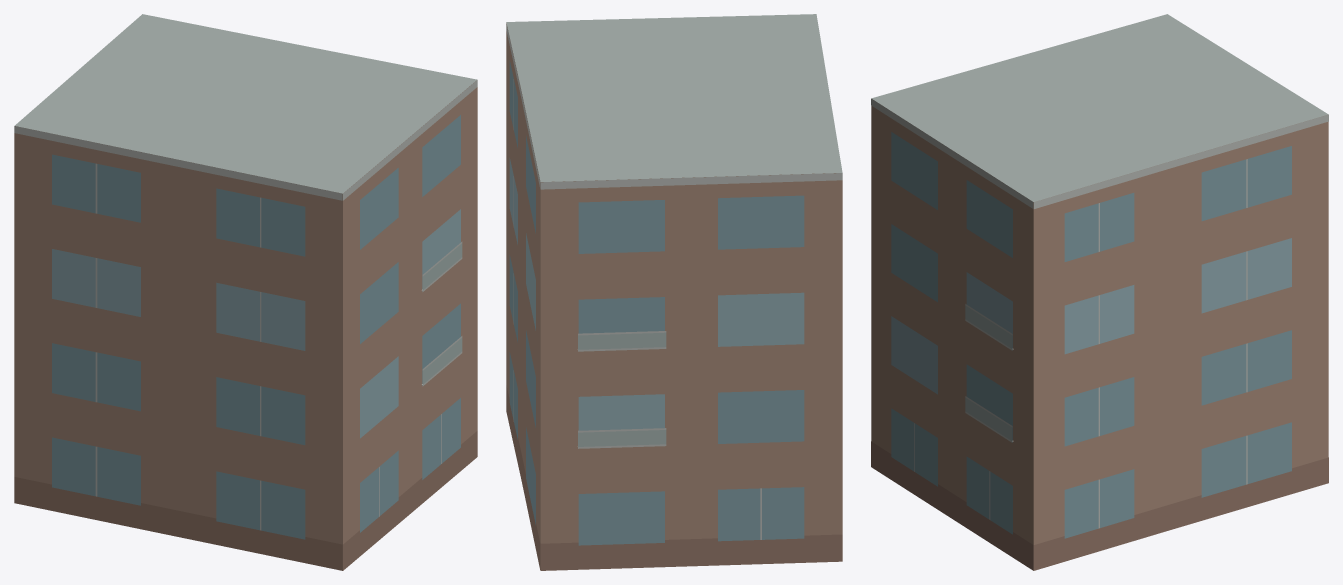
File: survey-upis-32679384.glb
3 renders of one model, left to right at view 1: azimuth 30°, elevation 25°; view 2: azimuth 150°, elevation 25°; view 3: azimuth 270°, elevation 25°, orthographic. The views are drawn at different scales.
Parts seen in each view (by area): view 1: survey-upis-32679384.tmp; view 2: survey-upis-32679384.tmp; view 3: survey-upis-32679384.tmp.
Boxes of the visible parts, bbox=[...] form: survey-upis-32679384.tmp: bbox=[14, 14, 477, 570]; survey-upis-32679384.tmp: bbox=[506, 14, 842, 570]; survey-upis-32679384.tmp: bbox=[871, 14, 1328, 570].
Bounding box in the file's own units: 13.91 × 12.7 × 14.29.
